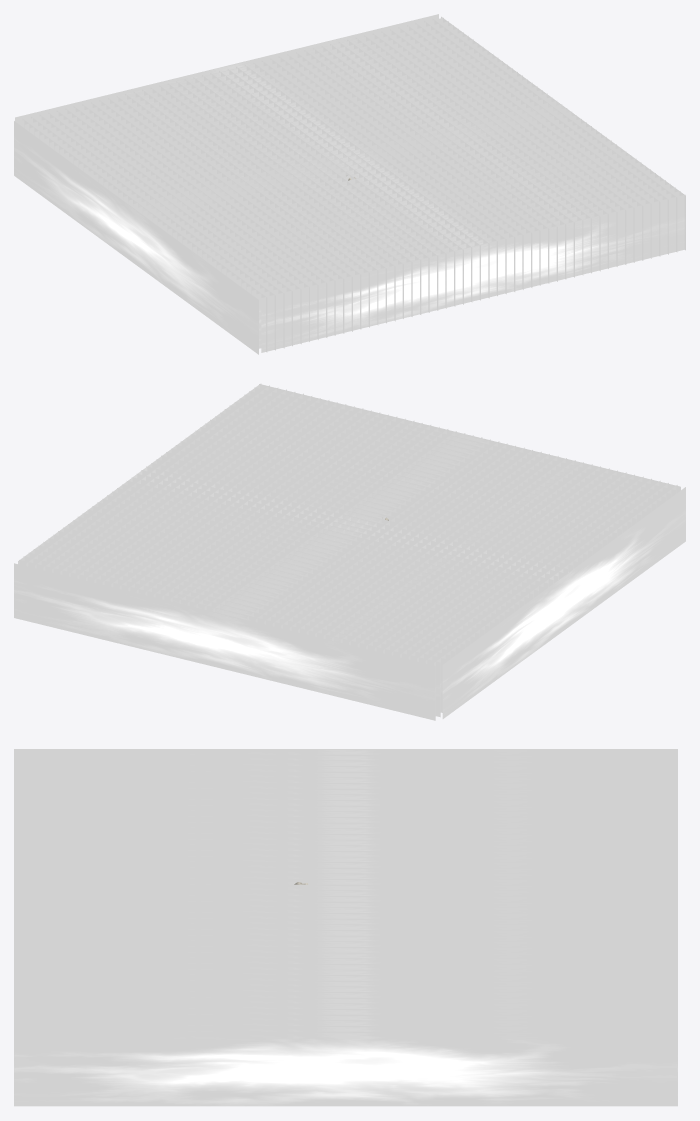
3 views of the same model, one above another, from view 1: azimuth 30°, elevation 25°; view 2: azimuth 150°, elevation 25°; view 3: azimuth 270°, elevation 25° (orthographic). The views are drawn at different scales.
Parts seen in each view (by area): view 1: fog_B_fog_0; view 2: fog_B_fog_0; view 3: fog_B_fog_0.
Boxes of the visible parts, left/top/right/bottom form: fog_B_fog_0: left=14, top=14, right=685, bottom=354; fog_B_fog_0: left=14, top=383, right=685, bottom=720; fog_B_fog_0: left=14, top=749, right=677, bottom=1106.
Bounding box in the file's own units: 8117 × 997 × 8143.
2 materials, 2 textured.
